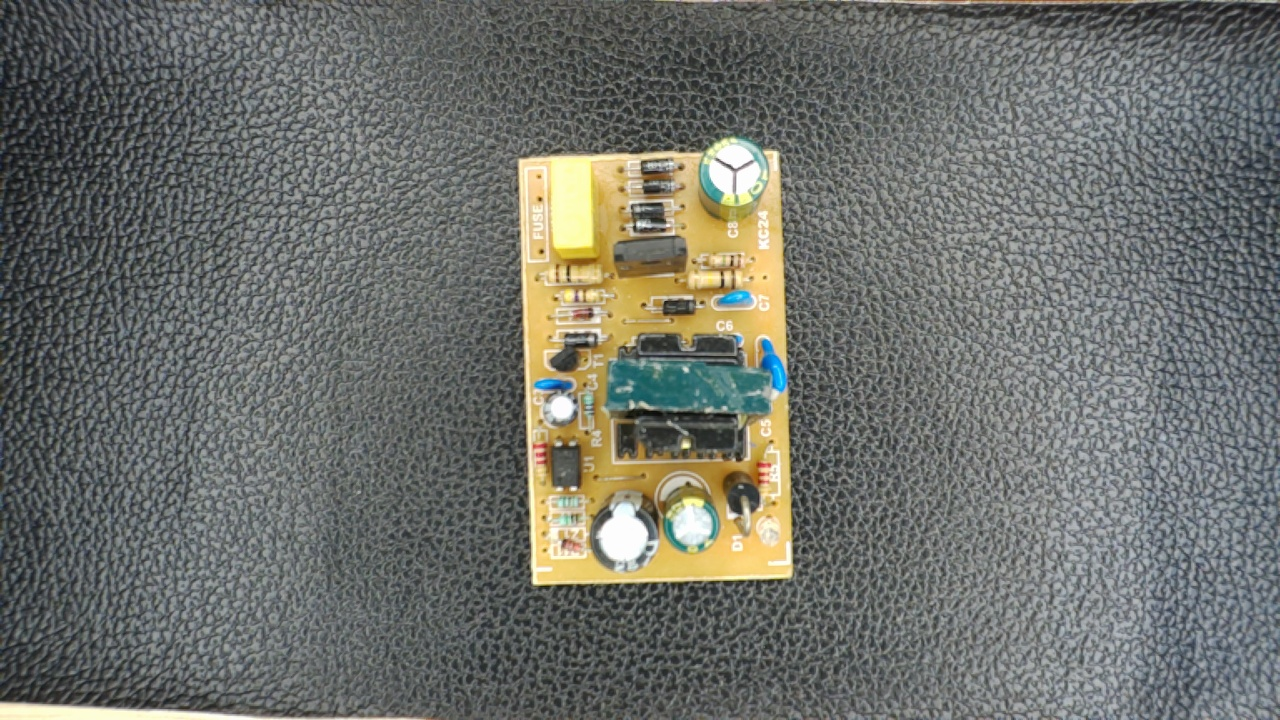hv_capacitor: (696, 135, 771, 221)
mov: (752, 332, 786, 402)
optocoupler: (548, 434, 587, 495)
